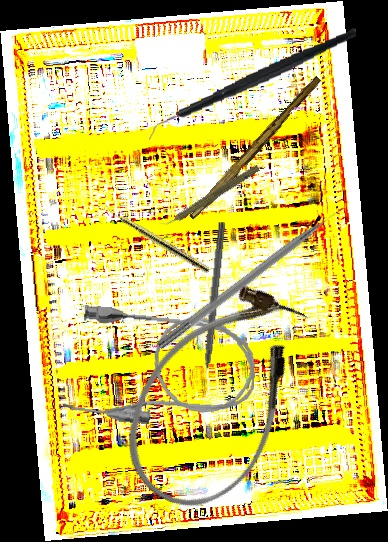Cannula: (99, 263, 335, 530), (62, 304, 260, 433)
Chopper: (141, 27, 364, 144)
Handpiece: (100, 202, 212, 275), (158, 161, 261, 232)
Hook Surgical: (198, 221, 227, 391)
Pusher: (156, 198, 354, 353)
Scalpel Handle: (188, 72, 323, 225)
